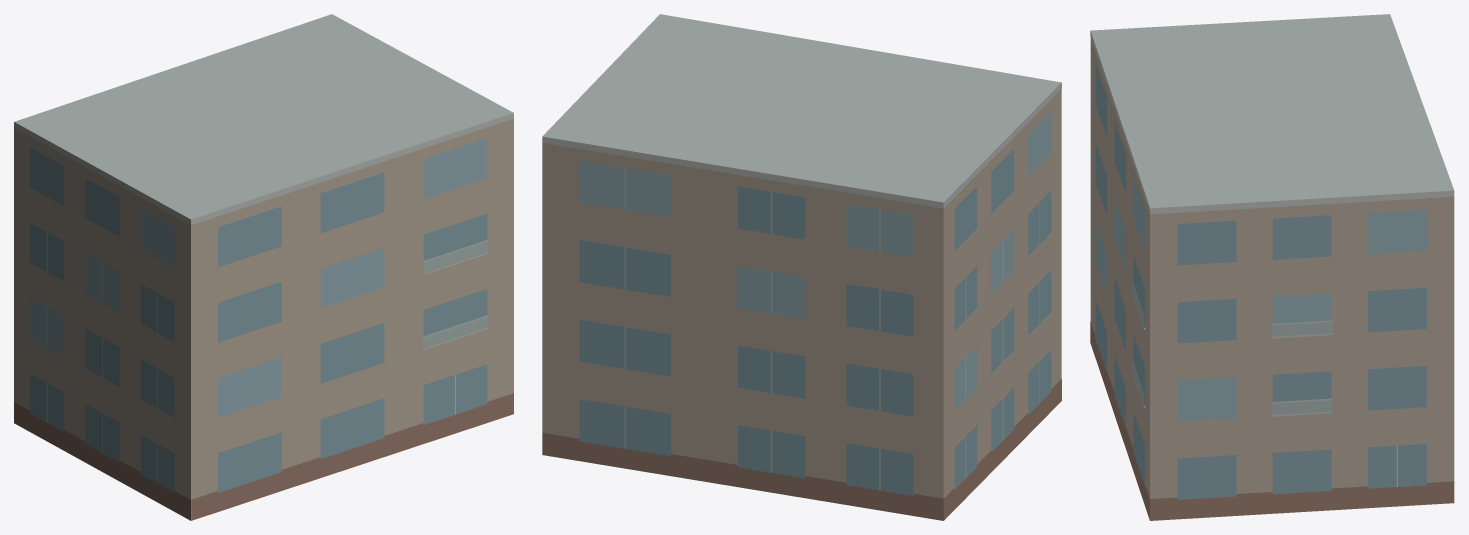
The model's file is survey-upis-32577642.glb.
3 views of the same model, side by side, from view 1: azimuth 30°, elevation 25°; view 2: azimuth 150°, elevation 25°; view 3: azimuth 270°, elevation 25° (orthographic). The views are drawn at different scales.
Parts seen in each view (by area): view 1: survey-upis-32577642.tmp; view 2: survey-upis-32577642.tmp; view 3: survey-upis-32577642.tmp.
Boxes of the visible parts, bbox=[...] form: survey-upis-32577642.tmp: bbox=[14, 14, 513, 520]; survey-upis-32577642.tmp: bbox=[542, 14, 1061, 520]; survey-upis-32577642.tmp: bbox=[1090, 14, 1454, 520].
Bounding box in the file's own units: 16.82 × 12.6 × 13.31.
